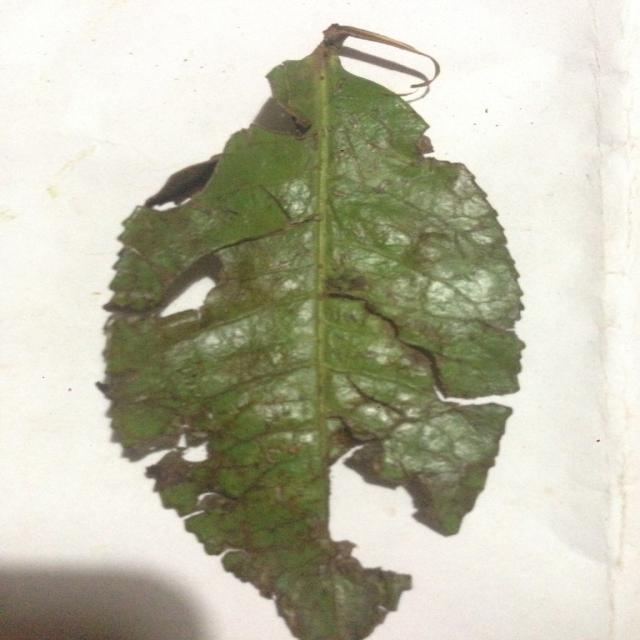Red Leaf Spot: (98, 15, 530, 640)
